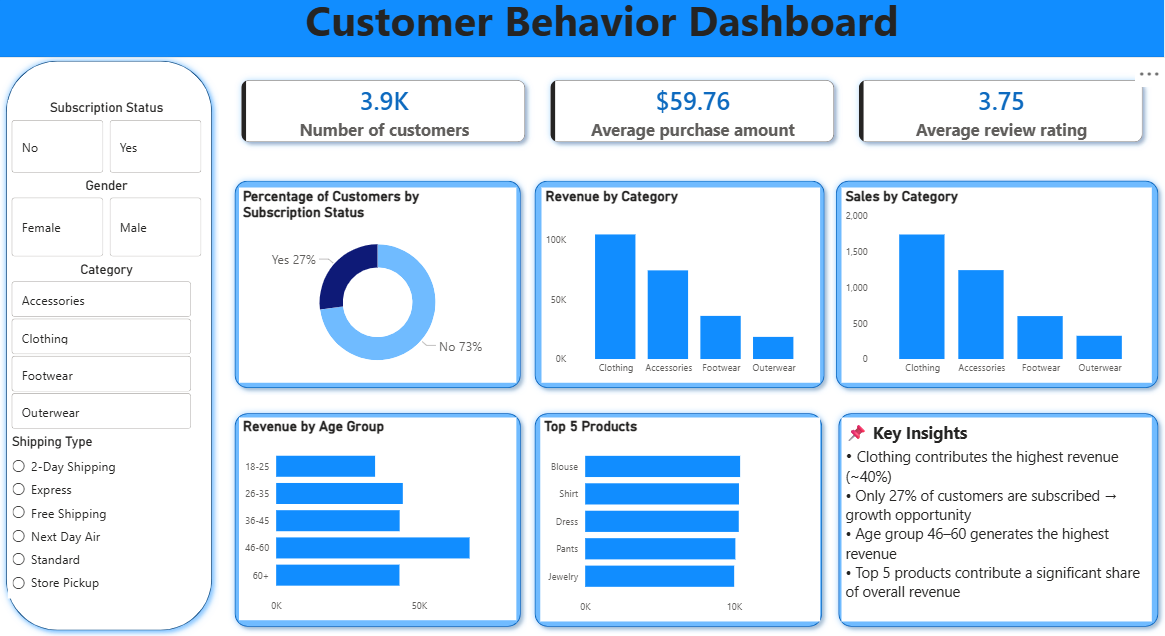

This screenshot's page, from the dashboard's own definition file:
{"tool":"powerbi","page":{"name":"Page 1","canvas":[1500,840],"ordinal":0},"visuals":[{"type":"cardVisual","fields":{"Data":["customer_behavior customer.Number of customers","customer_behavior customer.Average purchase amount","customer_behavior customer.Average review rating"]},"box":[283,93.3,1217.3,138.3],"z":0},{"type":"shape","box":[0,0,1500.3,93.3],"z":1000},{"type":"textbox","box":[51.5,3.2,1448.9,85.2],"z":2000},{"type":"shape","box":[294.3,242.8,385.9,284.6],"z":3000},{"type":"donutChart","title":"Percentage of Customers by Subscription Status","fields":{"Category":["customer_behavior customer.Subscription Status"],"Y":["CountNonNull(customer_behavior customer.Customer ID)"]},"box":[308.7,260.5,357,250.9],"z":4000},{"type":"shape","box":[680.2,242.8,390.8,284.6],"z":5000},{"type":"shape","box":[1067.8,242.8,432.6,284.6],"z":6000},{"type":"clusteredColumnChart","title":"Revenue by Category","fields":{"Y":["Sum(customer_behavior customer.Purchase Amount (USD))"],"Category":["customer_behavior customer.Category"]},"box":[697.9,260.5,358.6,250.9],"z":7000},{"type":"clusteredColumnChart","title":"Sales by Category","fields":{"Category":["customer_behavior customer.Category"],"Y":["CountNonNull(customer_behavior customer.Customer ID)"]},"box":[1083.8,260.5,398.8,250.9],"z":8000},{"type":"shape","box":[0,88.4,283,751],"z":9000},{"type":"advancedSlicerVisual","fields":{"Values":["customer_behavior customer.Subscription Status"]},"box":[11.3,147.9,254.1,99.7],"z":10000},{"type":"advancedSlicerVisual","fields":{"Values":["customer_behavior customer.Gender"]},"box":[11.3,247.6,254.1,107.7],"z":11000},{"type":"advancedSlicerVisual","fields":{"Values":["customer_behavior customer.Category"]},"box":[11.3,355.4,254.1,221.9],"z":12000},{"type":"listSlicer","fields":{"Values":["customer_behavior customer.Shipping Type"]},"box":[11.3,577.3,254.1,212.3],"z":13000},{"type":"shape","box":[294.3,541.9,385.9,292.7],"z":14000},{"type":"shape","box":[680.2,541.9,387.5,292.7],"z":15000},{"type":"clusteredBarChart","title":"Top 5 Products","fields":{"Y":["Sum(customer_behavior customer.Purchase Amount (USD))"],"Category":["customer_behavior customer.Item Purchased"]},"box":[696.3,556.4,360.2,262.1],"z":16000},{"type":"clusteredBarChart","title":"Revenue by Age Group","fields":{"Y":["Sum(customer_behavior customer.Purchase Amount (USD))"],"Category":["customer_behavior customer.Age Group"]},"box":[308.7,556.4,357,260.5],"z":17000},{"type":"shape","box":[1071,541.9,429.4,292.7],"z":18000},{"type":"textbox","box":[1083.8,556.4,398.8,262.1],"z":19000}]}

Visuals, with their boxes in screenshot pixels (x1, y1, x2, y2), scaled from the page's 1500x840 canvas onto the 1165x636 screenshot:
cardVisual - customer_behavior customer.Number of customers x customer_behavior customer.Average purchase amount: box(220, 71, 1164, 175)
shape: box(0, 0, 1164, 71)
textbox: box(40, 2, 1164, 67)
shape: box(229, 184, 528, 399)
"Percentage of Customers by Subscription Status" donutChart: box(240, 197, 517, 387)
shape: box(528, 184, 832, 399)
shape: box(829, 184, 1164, 399)
"Revenue by Category" clusteredColumnChart: box(542, 197, 821, 387)
"Sales by Category" clusteredColumnChart: box(842, 197, 1151, 387)
shape: box(0, 67, 220, 635)
advancedSlicerVisual - customer_behavior customer.Subscription Status: box(9, 112, 206, 187)
advancedSlicerVisual - customer_behavior customer.Gender: box(9, 187, 206, 269)
advancedSlicerVisual - customer_behavior customer.Category: box(9, 269, 206, 437)
listSlicer - customer_behavior customer.Shipping Type: box(9, 437, 206, 598)
shape: box(229, 410, 528, 632)
shape: box(528, 410, 829, 632)
"Top 5 Products" clusteredBarChart: box(541, 421, 821, 620)
"Revenue by Age Group" clusteredBarChart: box(240, 421, 517, 619)
shape: box(832, 410, 1164, 632)
textbox: box(842, 421, 1151, 620)
